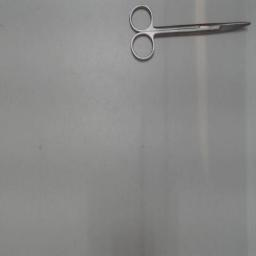Curved Mayo Scissors: (126, 2, 252, 66)
